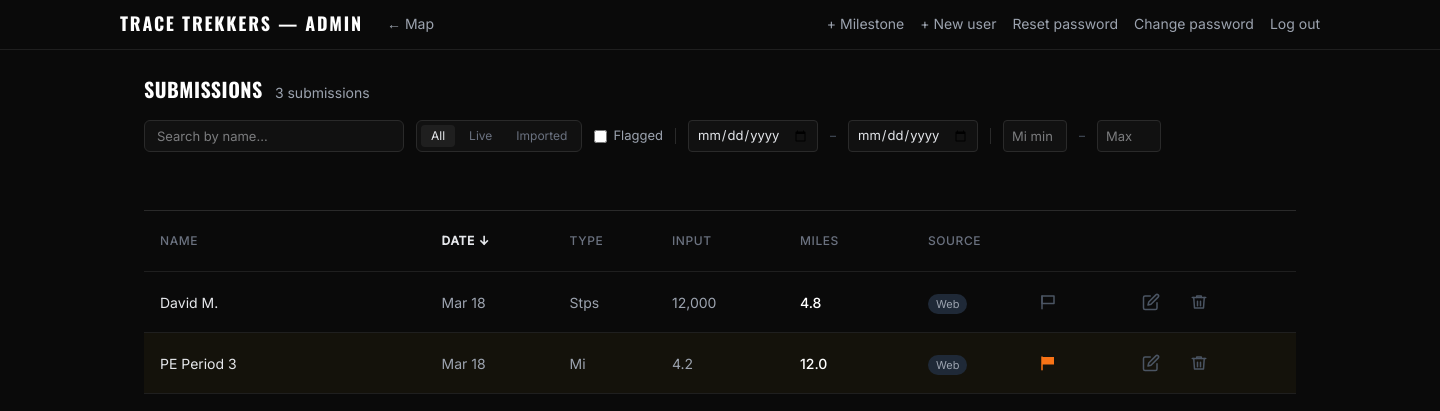
AdminPage › search filtering › shows the Clear filters button when search is active
The image size is (1440, 411).
Expected: the text "Ms. Rivera's Class" is shown, x1=160 y1=232 x2=281 y2=250
Type "PE" into the field with placeholder "Search by name..." at (274, 136), box x1=144 y1=120 x2=404 y2=152
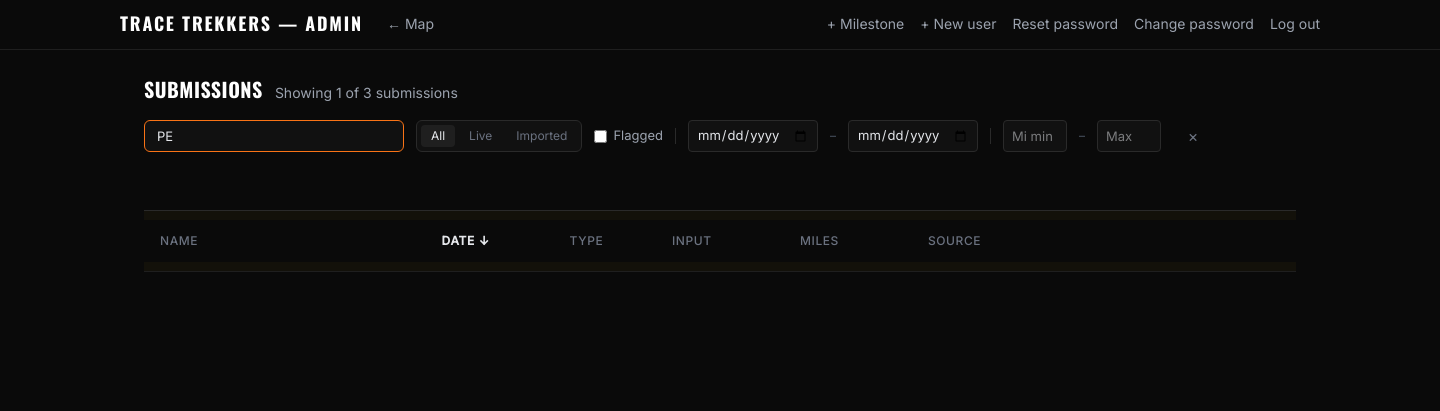
Now the button named "clear all filters" is shown, box x1=1177 y1=120 x2=1209 y2=152
